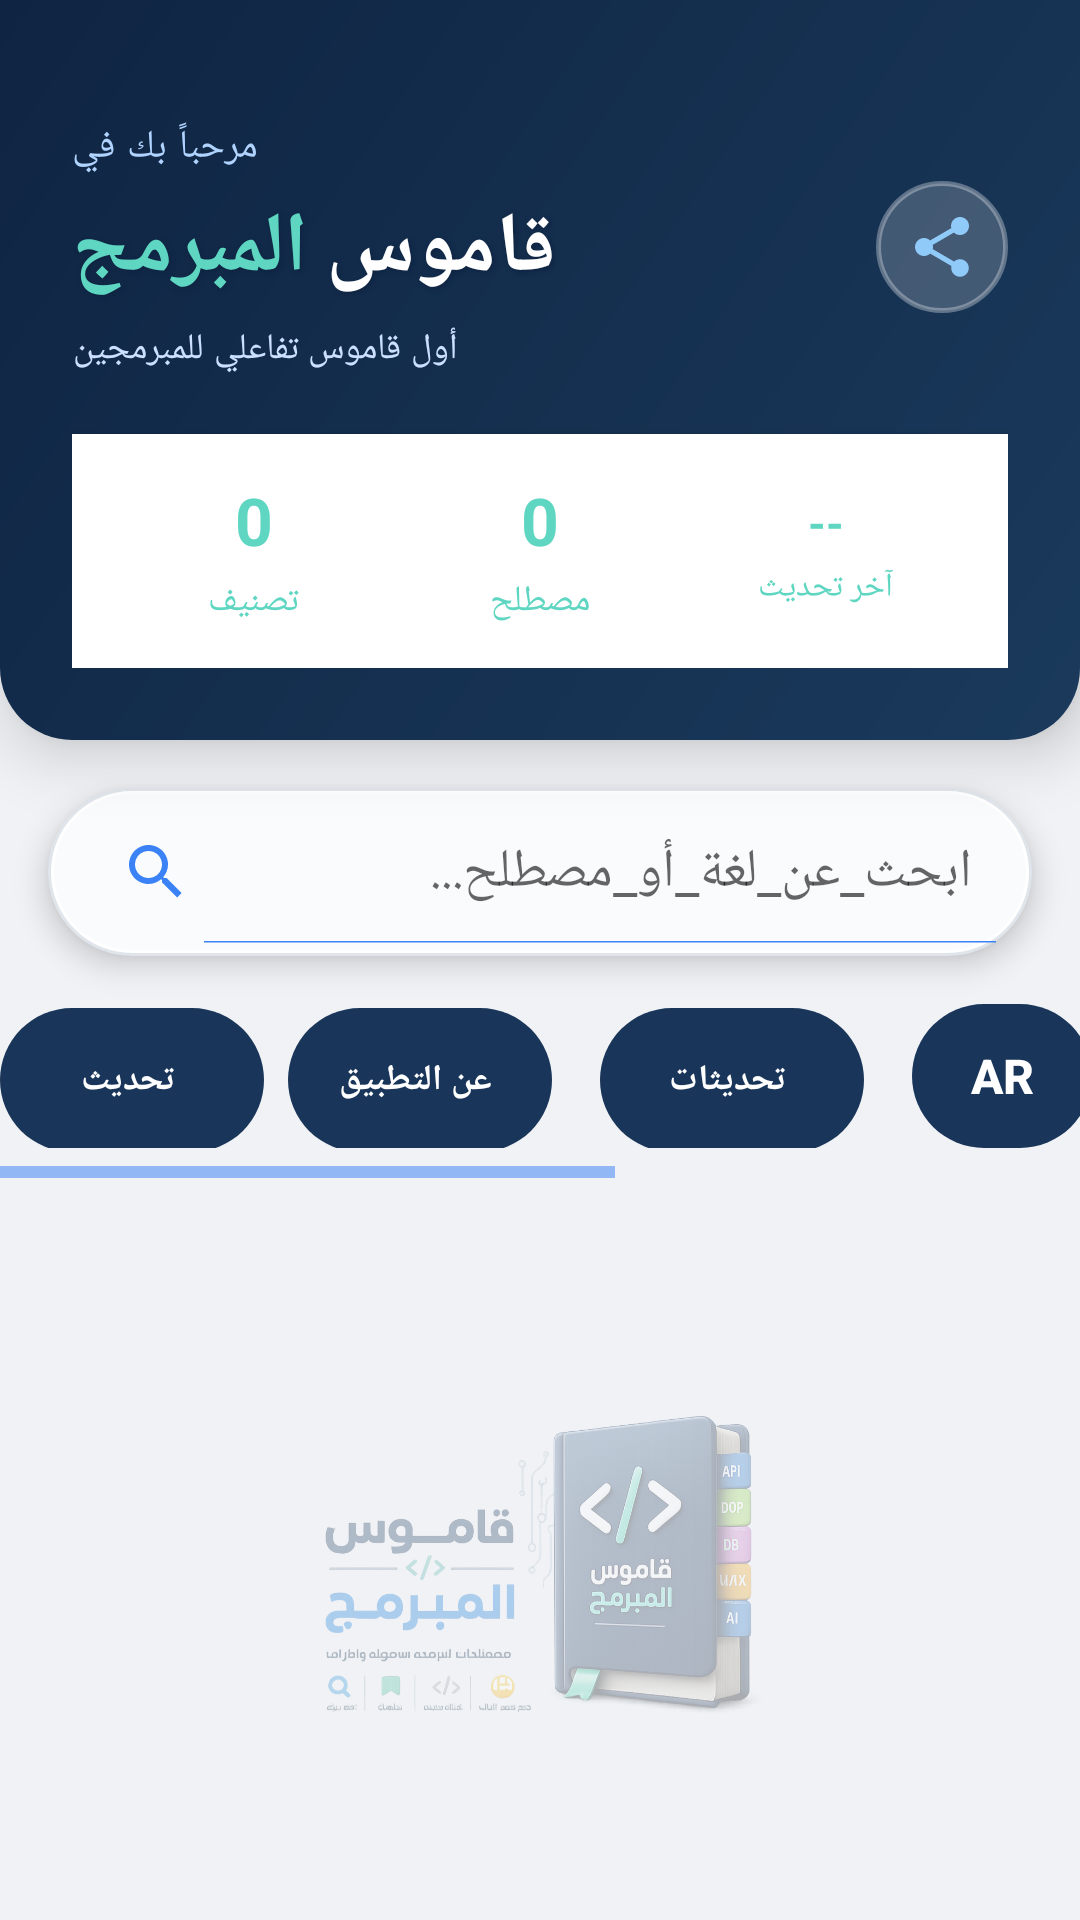

Named icons in this screenshot (1080×1920) and their bounding boxes, (x1,y1,x2,y2):
share: (876,181,1008,313)
